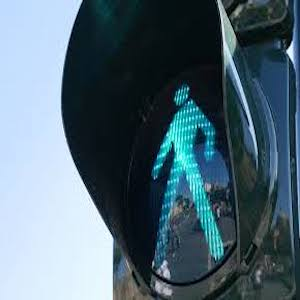green: (145, 85, 236, 266)
